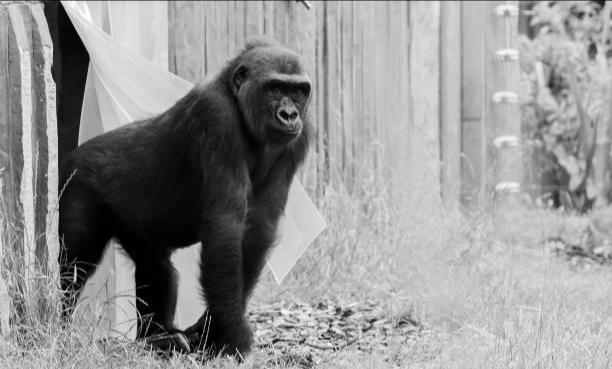gorille_Autres: (45, 53, 357, 346)
